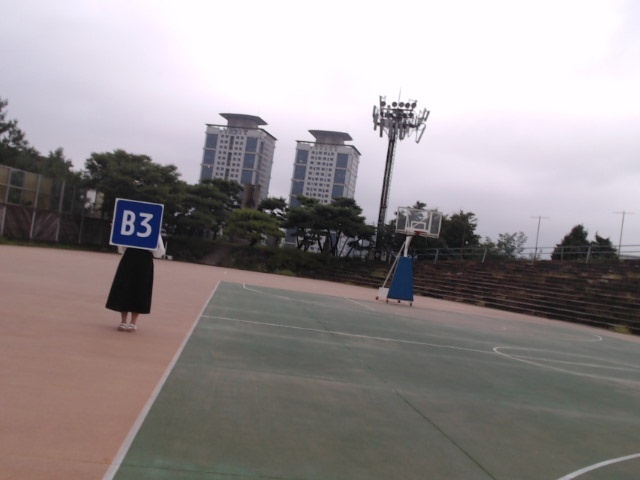delivery_b3: (109, 198, 164, 250)
